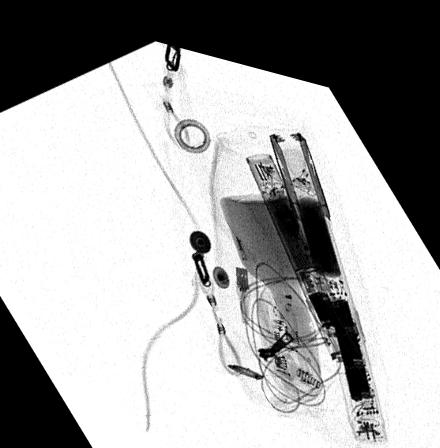Baton: (267, 114, 388, 425), (244, 137, 357, 344)
